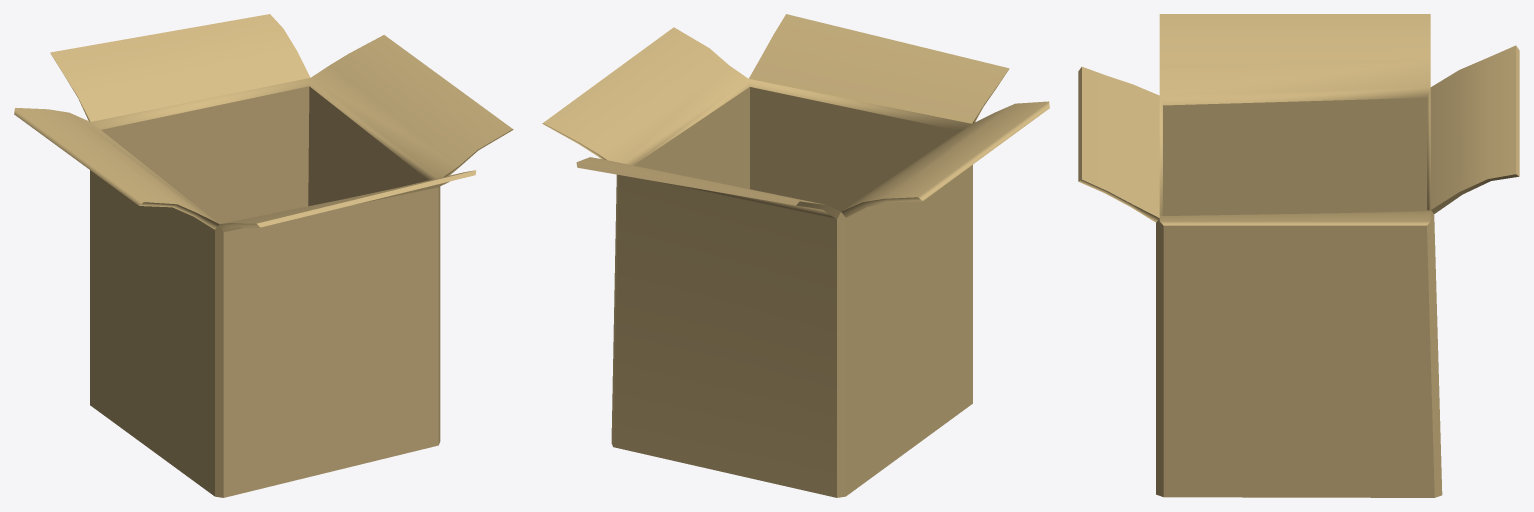
File: moving box 3.fbx
The picture shows the model from 3 angles, left to right: view 1: azimuth 30°, elevation 25°; view 2: azimuth 150°, elevation 25°; view 3: azimuth 270°, elevation 25°; orthographic projection. The views are drawn at different scales.
Parts seen in each view (by area): view 1: pCube54; view 2: pCube54; view 3: pCube54.
Boxes of the visible parts, x1,y1,x2,y2 form: pCube54: [14, 14, 513, 497]; pCube54: [542, 14, 1049, 497]; pCube54: [1078, 14, 1519, 497].
Size of the model in its own units: 1.06 by 0.871 by 1.03.
